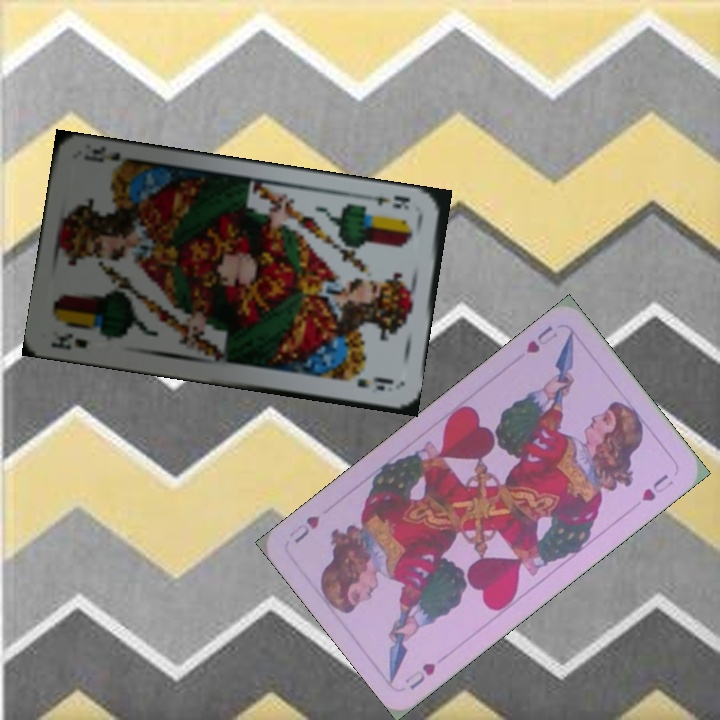EK: (364, 191, 413, 213), (48, 329, 91, 352)
HU: (522, 321, 560, 357), (400, 658, 439, 693)
